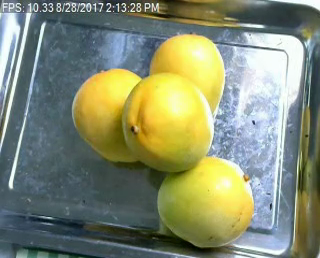Mango: (123, 73, 213, 169), (157, 156, 251, 244), (72, 69, 144, 162), (148, 35, 223, 102)
